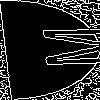M: (24, 25, 100, 69)
